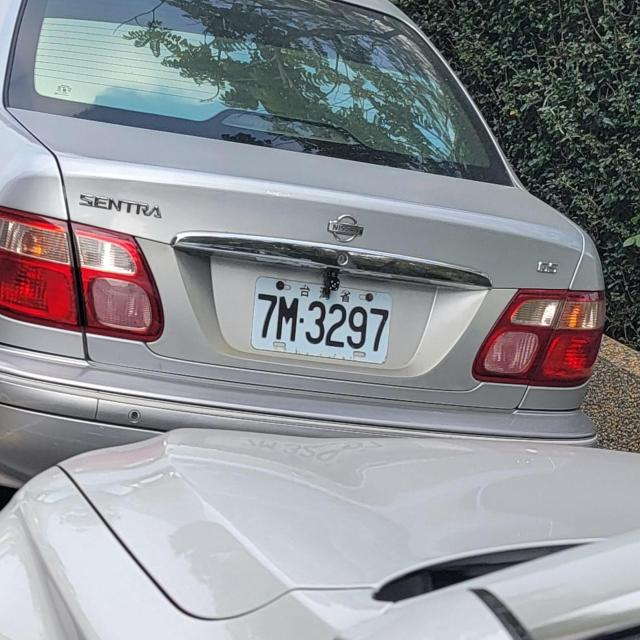W: (247, 276, 395, 364)
